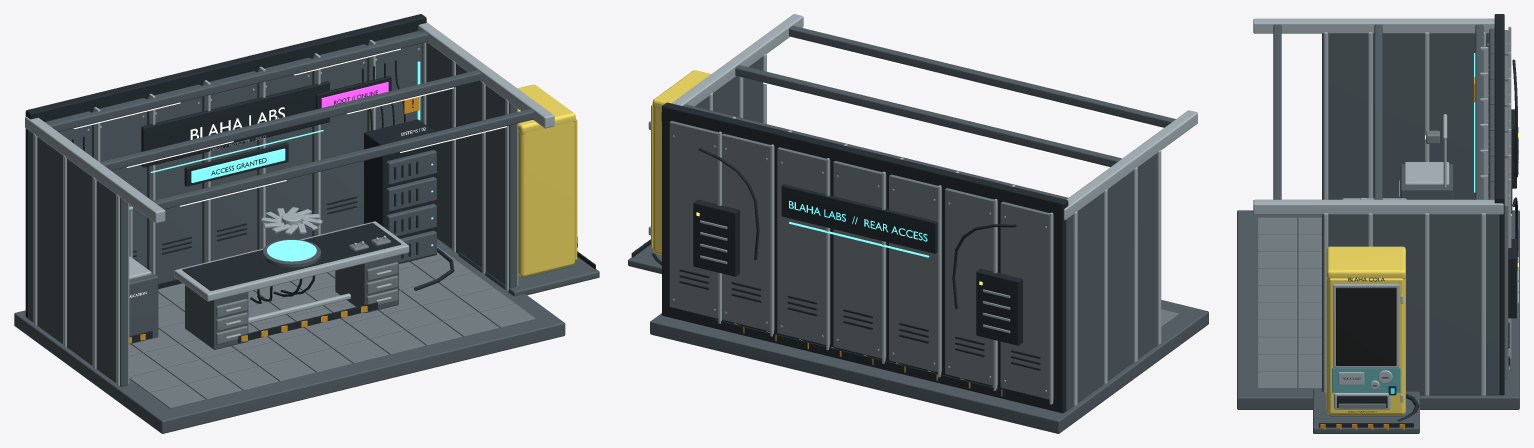
File: garage.glb
The picture shows the model from 3 angles, left to right: view 1: azimuth 30°, elevation 25°; view 2: azimuth 150°, elevation 25°; view 3: azimuth 270°, elevation 25°; orthographic projection. The views are drawn at different scales.
Visible parts, largest first — view 1: static_Graphite, static_Panel, static_Machined aluminum, floor, static_Carbon, projectTerminal, garageShell, machineRack, workbench, Vending service pad, static_neonWhite, accessGrantedSign (+5 smaller); view 2: static_Panel, static_Graphite, garageShell, static_Carbon, static_Machined aluminum, floor, projectTerminal, static_neonCyan, Vending crown, static_neonWhite, Vending service pad; view 3: static_Graphite, static_Machined aluminum, static_Panel, floor, Terminal screen bezel, garageShell, Vending crown, Vending service pad, Vending front door, static_Carbon, projectTerminal, Vending teal fascia (+7 smaller).
Part boxes in pixels (x1=…): static_Graphite: x1=28, y1=31, x2=534, y2=386; static_Panel: x1=129, y1=237, x2=535, y2=408; static_Machined aluminum: x1=25, y1=22, x2=554, y2=386; floor: x1=14, y1=239, x2=565, y2=433; static_Carbon: x1=129, y1=76, x2=418, y2=343; projectTerminal: x1=518, y1=121, x2=574, y2=277; garageShell: x1=25, y1=14, x2=426, y2=318; machineRack: x1=364, y1=119, x2=436, y2=263; workbench: x1=174, y1=221, x2=409, y2=301; Vending service pad: x1=458, y1=252, x2=599, y2=296; static_neonWhite: x1=73, y1=48, x2=506, y2=297; accessGrantedSign: x1=191, y1=148, x2=285, y2=182; static_Panel: x1=669, y1=121, x2=1178, y2=399; static_Graphite: x1=683, y1=25, x2=1175, y2=411; garageShell: x1=662, y1=102, x2=1068, y2=413; static_Carbon: x1=679, y1=184, x2=1040, y2=397; static_Machined aluminum: x1=661, y1=14, x2=1197, y2=406; floor: x1=650, y1=300, x2=1208, y2=433; projectTerminal: x1=653, y1=108, x2=661, y2=255; static_neonCyan: x1=789, y1=200, x2=929, y2=257; Vending crown: x1=652, y1=70, x2=711, y2=109; static_neonWhite: x1=763, y1=43, x2=1148, y2=164; Vending service pad: x1=628, y1=244, x2=661, y2=273; static_Graphite: x1=1273, y1=24, x2=1499, y2=395; static_Machined aluminum: x1=1253, y1=18, x2=1518, y2=396; static_Panel: x1=1258, y1=30, x2=1508, y2=388; floor: x1=1237, y1=210, x2=1519, y2=409; Terminal screen bezel: x1=1336, y1=287, x2=1396, y2=365; garageShell: x1=1494, y1=14, x2=1504, y2=395; Vending crown: x1=1326, y1=246, x2=1405, y2=279; Vending service pad: x1=1313, y1=388, x2=1419, y2=433; Vending front door: x1=1329, y1=278, x2=1403, y2=413; static_Carbon: x1=1488, y1=109, x2=1516, y2=365; projectTerminal: x1=1326, y1=277, x2=1405, y2=415; Vending teal fascia: x1=1332, y1=367, x2=1400, y2=392.
Bounding box in the file's own units: 13.03 × 5.76 × 7.
